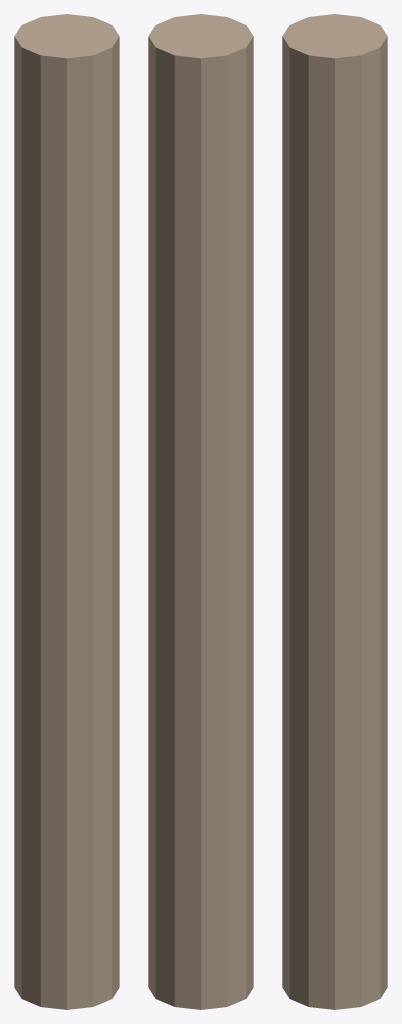
Rendered from struct_pillar.glb.
3 views of the same model, side by side, from view 1: azimuth 90°, elevation 25°; view 2: azimuth 150°, elevation 25°; view 3: azimuth 270°, elevation 25° (orthographic).
Visible parts, largest first — view 1: struct_pillar; view 2: struct_pillar; view 3: struct_pillar.
Part boxes in pixels (x1,y1,x2,y2): struct_pillar: [14, 14, 119, 1009]; struct_pillar: [148, 14, 253, 1009]; struct_pillar: [282, 14, 387, 1009].
Size of the model in its own units: 0.5036 by 5.04 by 0.5036.
